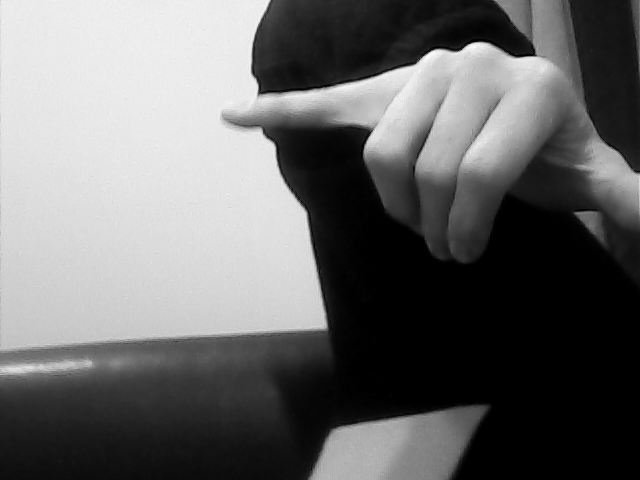aloha: (222, 42, 640, 257)
